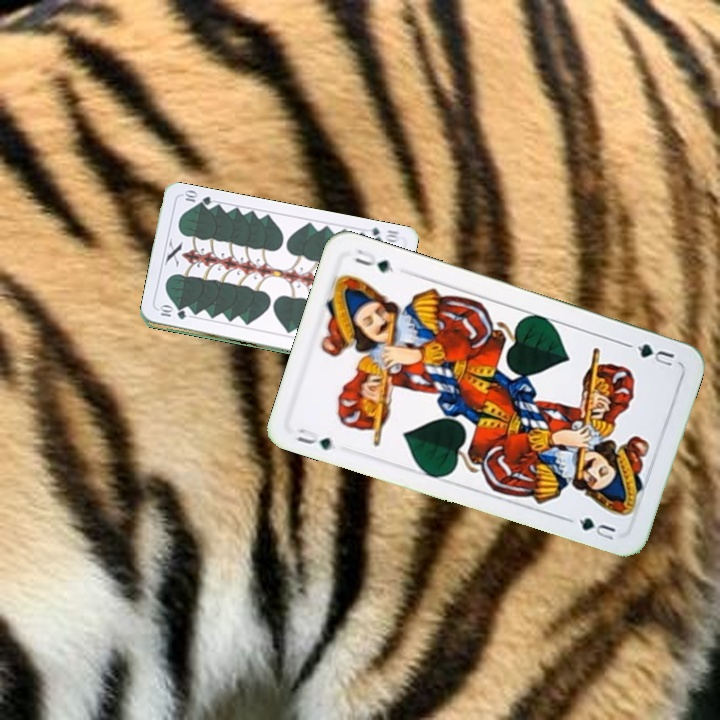G10: (361, 224, 401, 245), (155, 305, 189, 322)
GU: (631, 339, 677, 369), (292, 424, 335, 453)
